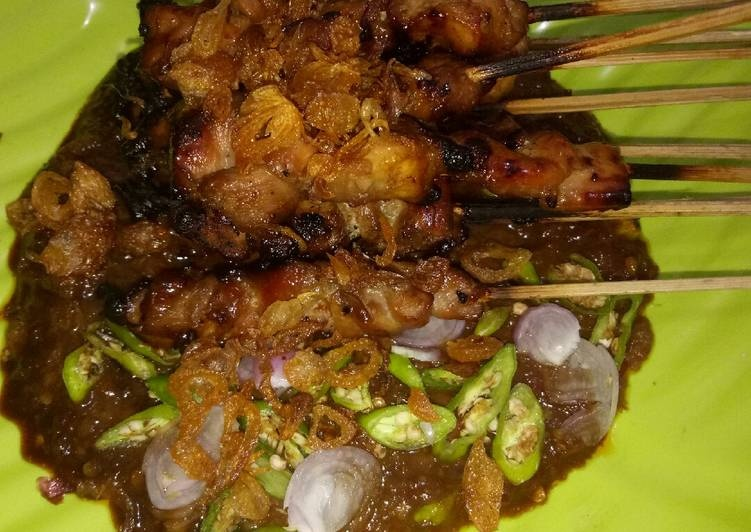sate_madura: (100, 1, 751, 330)
